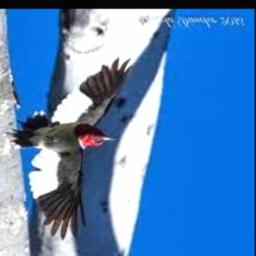Woodpecker: (2, 57, 132, 239)
